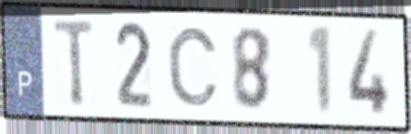1: (305, 22, 333, 119)
2: (114, 19, 154, 112)
4: (345, 26, 394, 119)
8: (229, 24, 274, 113)
C: (165, 25, 222, 110)
T: (51, 16, 97, 110)
